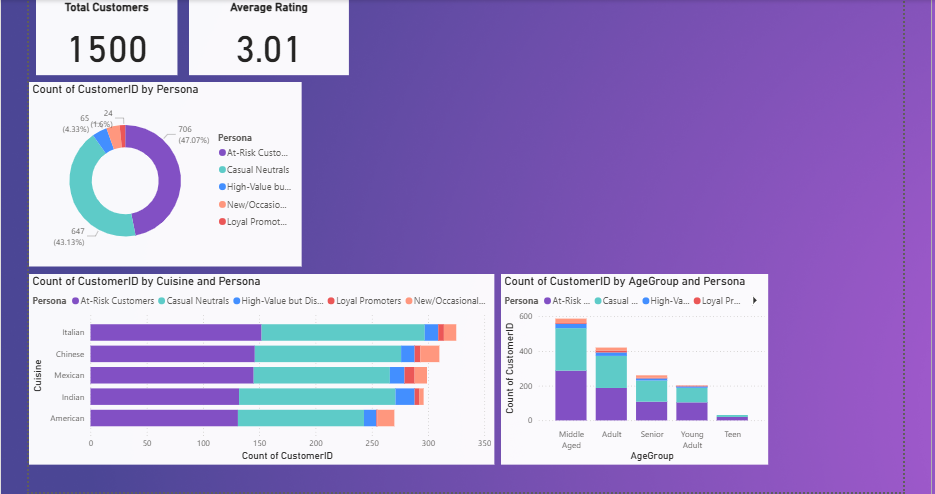

What the dashboard file says about the page in this screenshot:
{"tool":"powerbi","page":{"name":"Page 4","canvas":[1280,720],"ordinal":3},"visuals":[{"type":"donutChart","fields":{"Y":["CountNonNull(restaurant_customer_satisfaction.CustomerID)"],"Category":["restaurant_customer_satisfaction.Persona"]},"box":[0,120,398.6,270],"z":0},{"type":"columnChart","fields":{"Category":["restaurant_customer_satisfaction.AgeGroup"],"Series":["restaurant_customer_satisfaction.Persona"],"Y":["CountNonNull(restaurant_customer_satisfaction.CustomerID)"]},"box":[691.4,401.4,391.4,278.6],"z":1000},{"type":"clusteredBarChart","fields":{"Y":["CountNonNull(restaurant_customer_satisfaction.Persona)"],"Category":["restaurant_customer_satisfaction.AmbianceRating"]},"box":[414.3,120,374.3,270],"z":2000},{"type":"barChart","fields":{"Category":["restaurant_customer_satisfaction.Cuisine"],"Y":["CountNonNull(restaurant_customer_satisfaction.CustomerID)"],"Series":["restaurant_customer_satisfaction.Persona"]},"box":[0,401.4,681.4,278.6],"z":3000},{"type":"card","title":"Total Customers","fields":{"Values":["Count(restaurant_customer_satisfaction.CustomerID)"]},"box":[10,0,207.1,110],"z":4000},{"type":"card","title":"Average Rating","fields":{"Values":["Avg(restaurant_customer_satisfaction.Rating)"]},"box":[234.3,0,234.3,110],"z":5000}]}

Visuals, with their boxes in screenshot pixels (x1, y1, x2, y2):
donutChart - CountNonNull(restaurant_customer_satisfaction.CustomerID) x restaurant_customer_satisfaction.Persona: (27,84,297,266)
columnChart - restaurant_customer_satisfaction.AgeGroup x restaurant_customer_satisfaction.Persona: (495,274,760,463)
clusteredBarChart - CountNonNull(restaurant_customer_satisfaction.Persona) x restaurant_customer_satisfaction.AmbianceRating: (307,84,561,266)
barChart - restaurant_customer_satisfaction.Cuisine x CountNonNull(restaurant_customer_satisfaction.CustomerID): (27,274,488,463)
"Total Customers" card: (34,2,174,77)
"Average Rating" card: (185,2,344,77)
